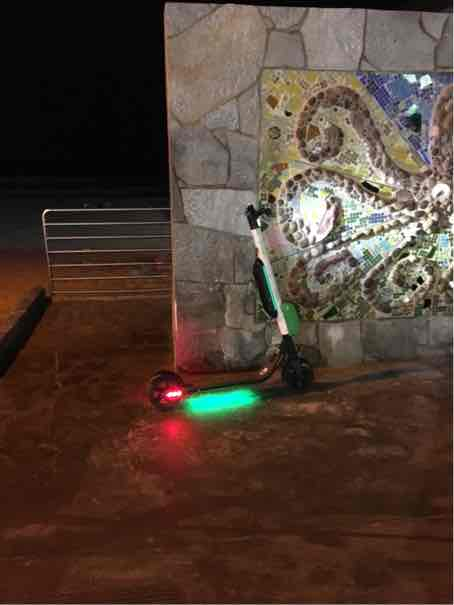scooter: (140, 187, 318, 414)
